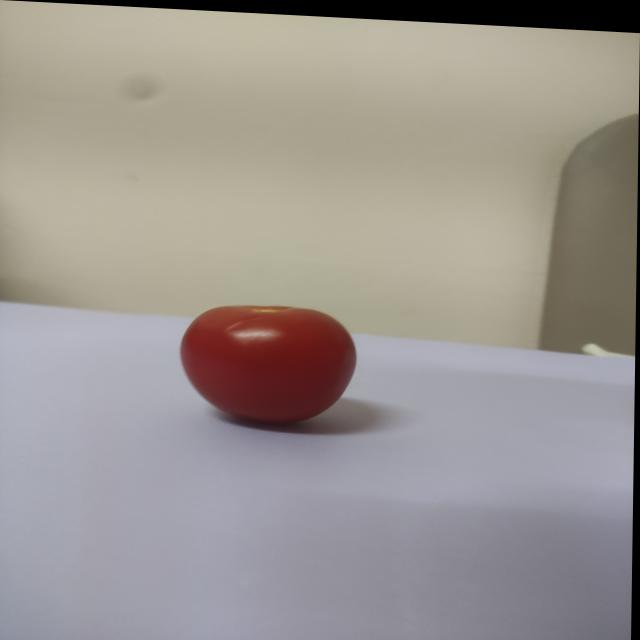kirmizi: (170, 292, 386, 430)
